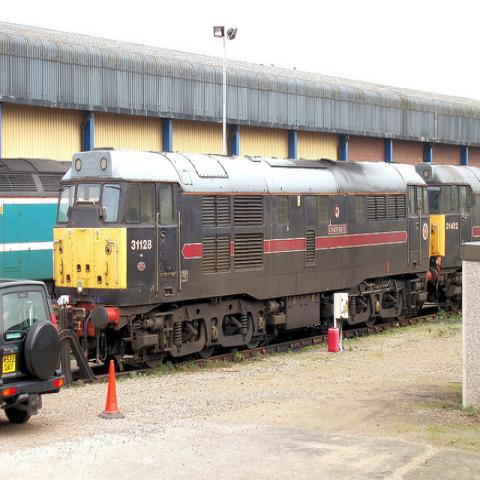truck: (0, 274, 68, 428)
